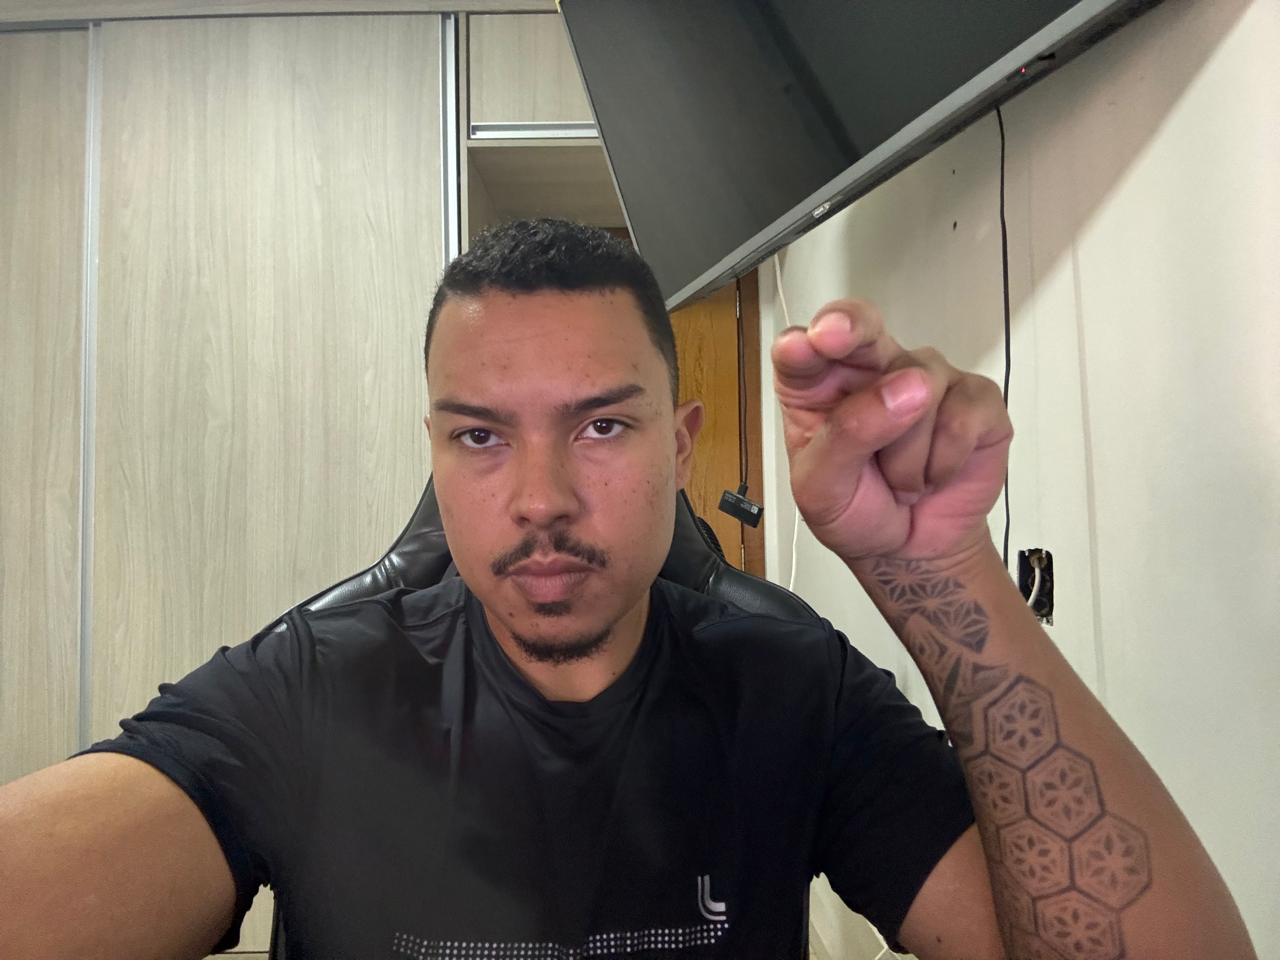n: (749, 289, 1021, 579)
